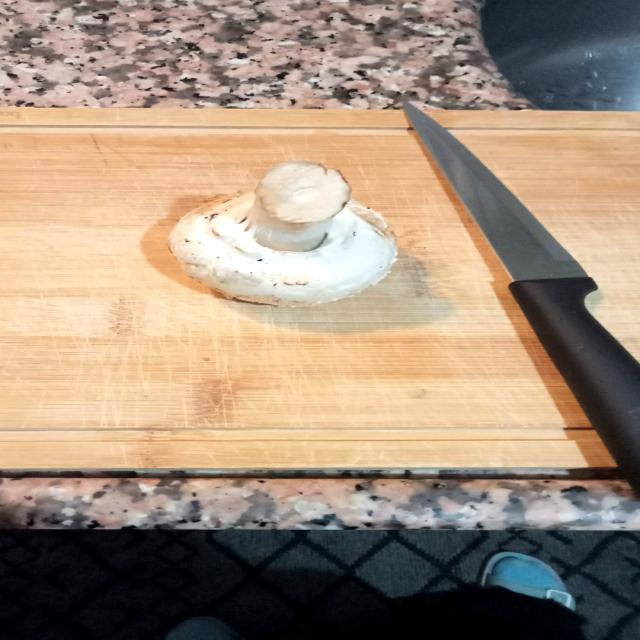mushroom: (156, 146, 425, 318)
